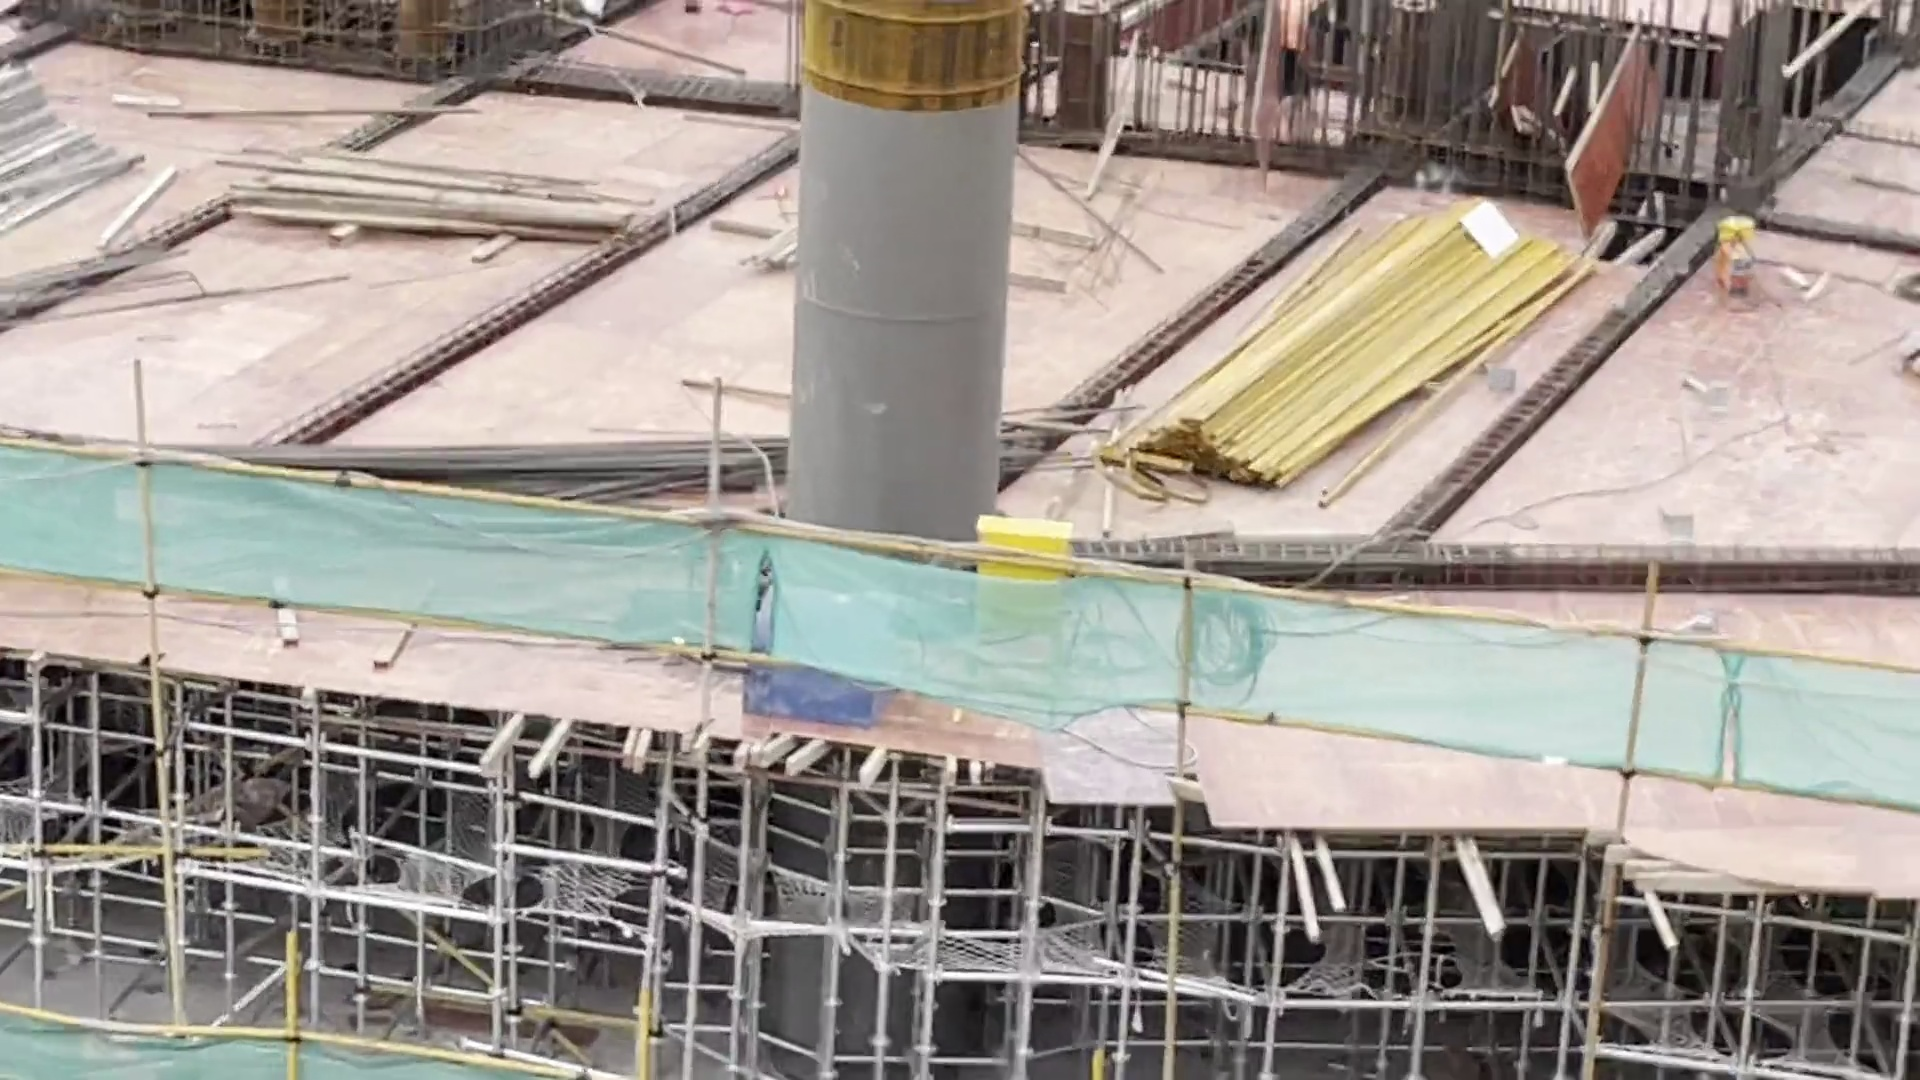ebox: (976, 517, 1073, 732)
